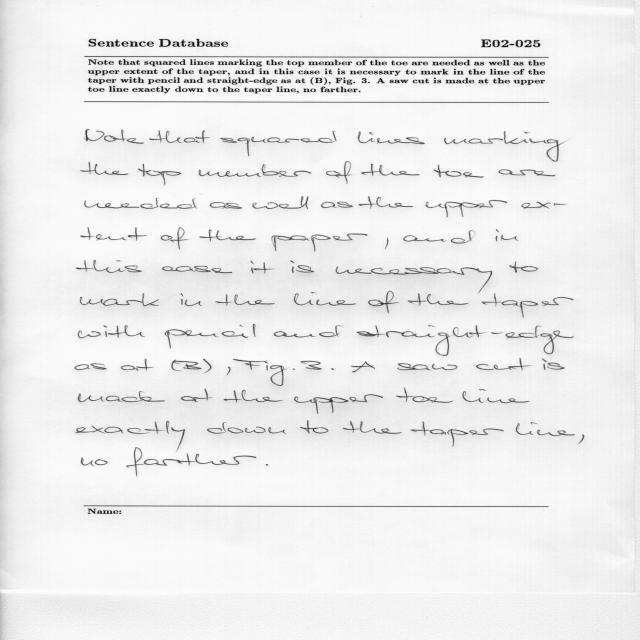word: (356, 325, 574, 356), (336, 267, 492, 294), (444, 131, 565, 162), (126, 448, 256, 476), (76, 421, 185, 451), (221, 131, 337, 156), (411, 421, 504, 447), (482, 293, 574, 318), (165, 324, 255, 349), (294, 394, 383, 414), (271, 234, 368, 252), (233, 359, 295, 386), (198, 164, 311, 177), (426, 200, 508, 217), (85, 198, 197, 209), (80, 293, 159, 307), (403, 230, 475, 244), (78, 391, 165, 402), (462, 389, 530, 403), (207, 422, 286, 434), (81, 227, 147, 241), (138, 164, 181, 185), (84, 129, 144, 144), (78, 325, 145, 338), (274, 325, 341, 338), (294, 292, 356, 306), (76, 260, 142, 273), (396, 388, 453, 403), (516, 422, 575, 436), (358, 132, 425, 144), (149, 131, 210, 144), (408, 293, 469, 306), (224, 390, 283, 403), (343, 421, 402, 434), (200, 229, 257, 242), (253, 196, 309, 209), (215, 294, 275, 306), (476, 358, 531, 371), (361, 164, 420, 176), (368, 291, 399, 313), (358, 197, 413, 209), (434, 165, 484, 178), (81, 162, 129, 175), (161, 228, 189, 250), (326, 161, 352, 184), (162, 266, 232, 273), (398, 363, 458, 370), (498, 170, 556, 177), (181, 389, 212, 402), (300, 421, 329, 434), (171, 360, 202, 371), (509, 262, 538, 273), (522, 202, 567, 209), (251, 261, 275, 274), (290, 260, 314, 273), (496, 229, 519, 241), (542, 358, 565, 370), (181, 294, 202, 307), (351, 362, 375, 373), (210, 202, 242, 209), (75, 363, 107, 370), (81, 458, 108, 466), (136, 359, 154, 370), (321, 202, 353, 208), (301, 361, 322, 370), (203, 359, 212, 373), (121, 365, 139, 371), (578, 435, 584, 445), (385, 238, 389, 250), (226, 367, 231, 376), (331, 368, 334, 370), (266, 464, 268, 466)
